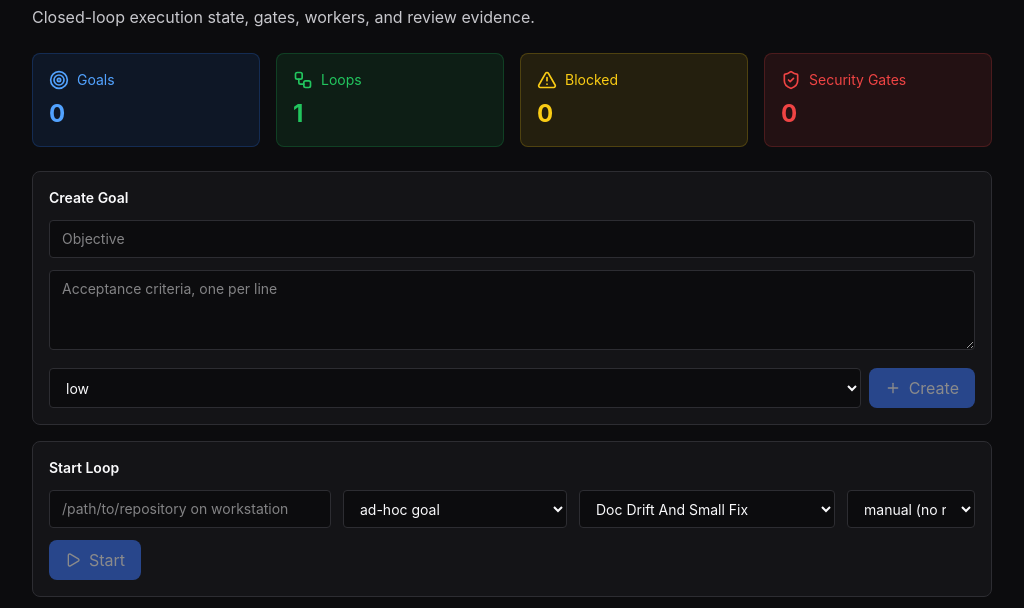
Test: selects the created run and does not replace its review bundle with the previously selected run
The width and height of the screenshot is (1024, 608).
Type "/tmp/created-fixture" into the field with placeholder "/path/to/repository on workstation" at (190, 509), box [49,490,331,528]
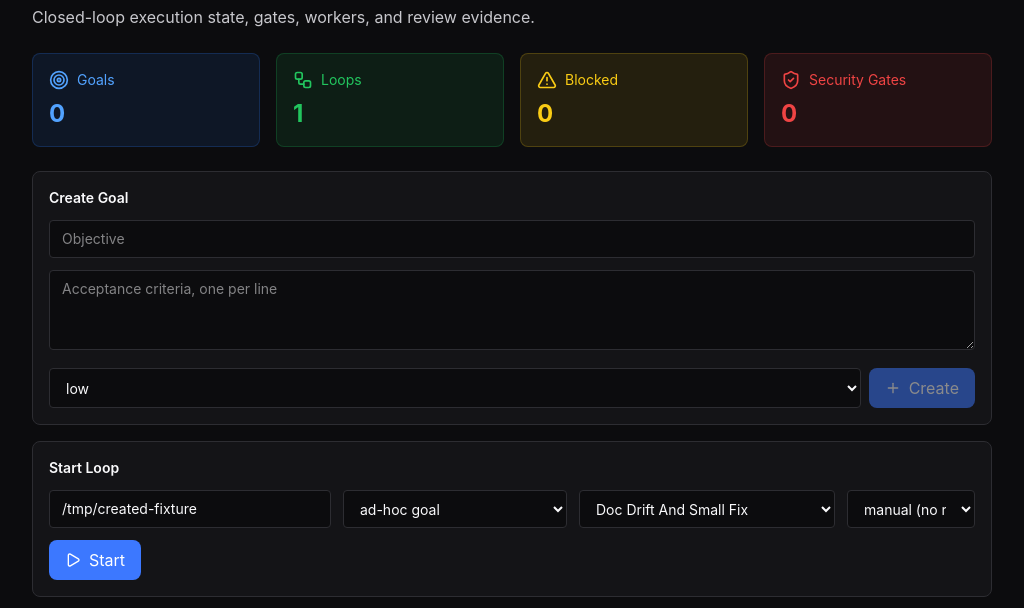
Click the button "Start" at (95, 560), box [49,540,141,580]
(page scrolled)
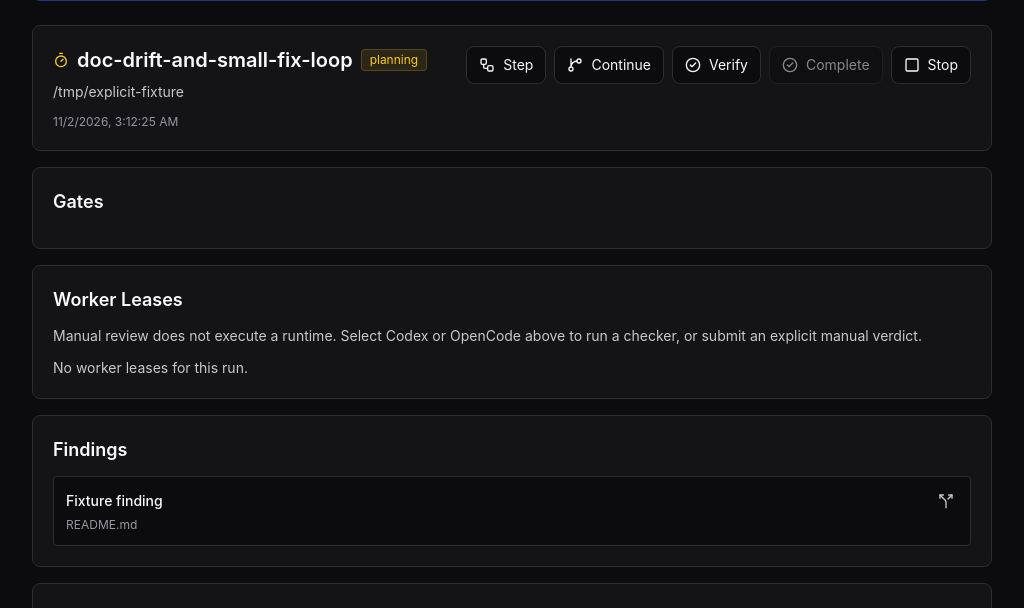
Expected: the text "No worker leases for this run." is shown, [53,359,248,376]
